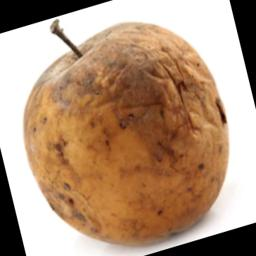Apple Rotten: (17, 10, 256, 255)
